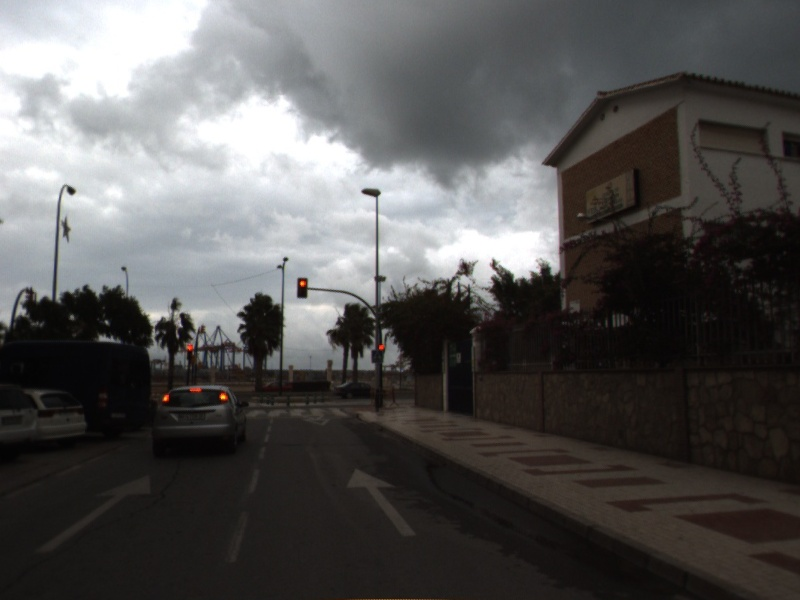STRAIGHT: (33, 471, 154, 556), (343, 465, 421, 539)
